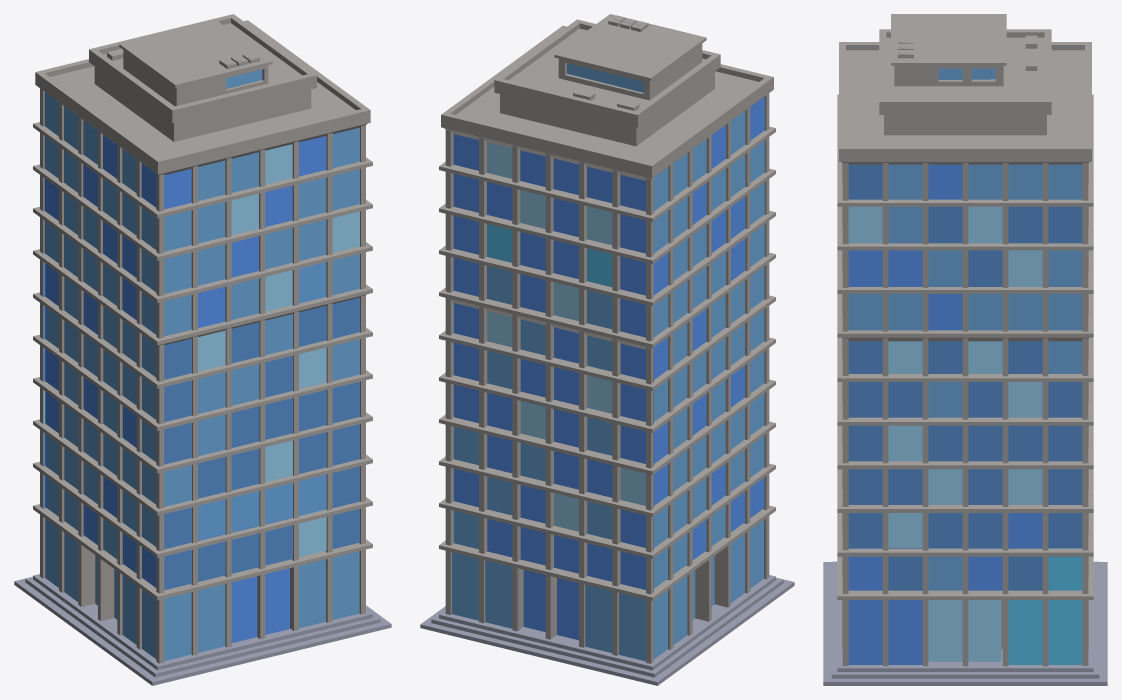
The model's file is daxingjianzhu_lanse.fbx.
3 renders of one model, left to right at view 1: azimuth 30°, elevation 25°; view 2: azimuth 150°, elevation 25°; view 3: azimuth 270°, elevation 25°, orthographic. The views are drawn at different scales.
Parts seen in each view (by area): view 1: daxingjianzhu_lanse; view 2: daxingjianzhu_lanse; view 3: daxingjianzhu_lanse.
Boxes of the visible parts, x1,y1,x2,y2 form: daxingjianzhu_lanse: (14,14,391,685); daxingjianzhu_lanse: (420,14,794,685); daxingjianzhu_lanse: (823,14,1107,685).
Bounding box in the file's own units: 1177 × 1177 × 2666.
